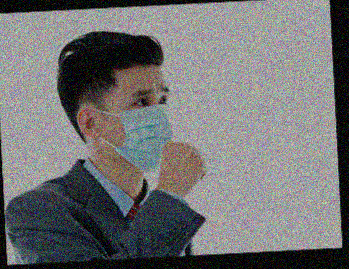with_mask: (100, 83, 171, 171)
